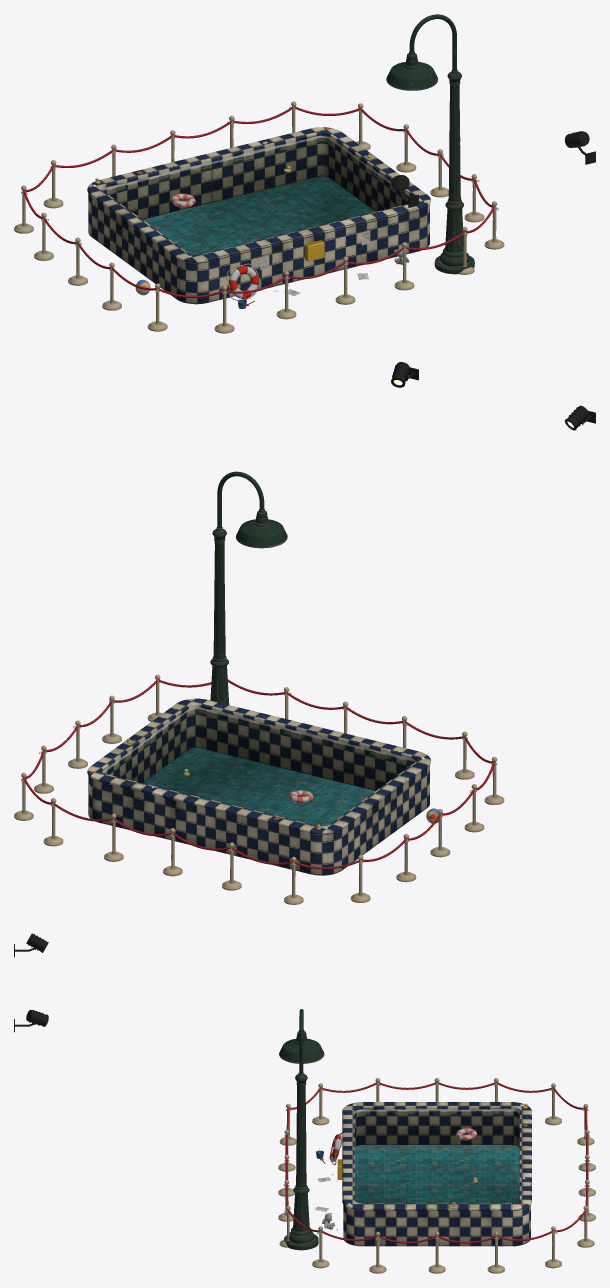
File: sala_vasca_centrale.glb
The picture shows the model from 3 angles, top to bottom: view 1: azimuth 30°, elevation 25°; view 2: azimuth 150°, elevation 25°; view 3: azimuth 270°, elevation 25°; orthographic projection. The views are drawn at different scales.
Parts seen in each view (by area): view 1: sala_vasca_centrale, amb_lampione, sala_vasca_cordone, sala_vasca_centrale_calcare, sala_monumento_fari, ogg_salvagente_nave_36, sala_vasca_offerte; view 2: sala_vasca_centrale, amb_lampione, sala_vasca_cordone, sala_vasca_centrale_calcare, sala_monumento_fari; view 3: sala_vasca_centrale, amb_lampione, sala_vasca_cordone, sala_vasca_centrale_calcare, sala_monumento_fari.
Boxes of the visible parts, box(x1,y1,x2,y2) form: sala_vasca_centrale: box(87, 127, 430, 304); amb_lampione: box(386, 14, 474, 274); sala_vasca_cordone: box(22, 106, 495, 297); sala_vasca_centrale_calcare: box(102, 135, 409, 199); sala_monumento_fari: box(391, 131, 595, 207); ogg_salvagente_nave_36: box(226, 263, 259, 300); sala_vasca_offerte: box(93, 127, 426, 308); sala_vasca_centrale: box(87, 698, 430, 875); amb_lampione: box(210, 471, 287, 704); sala_vasca_cordone: box(22, 679, 495, 869); sala_vasca_centrale_calcare: box(102, 707, 415, 773); sala_monumento_fari: box(391, 362, 595, 430); sala_vasca_centrale: box(337, 1102, 531, 1246); amb_lampione: box(279, 1009, 324, 1250); sala_vasca_cordone: box(285, 1082, 588, 1243); sala_vasca_centrale_calcare: box(354, 1108, 519, 1116); sala_monumento_fari: box(14, 933, 48, 1032).
Size of what is drawn, in the model's own units: 9.01 by 5.81 by 13.75.
Materials: 22 (18 with a texture image).
